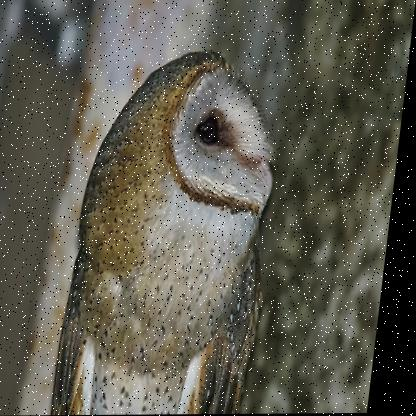Burung: (58, 49, 293, 414)
